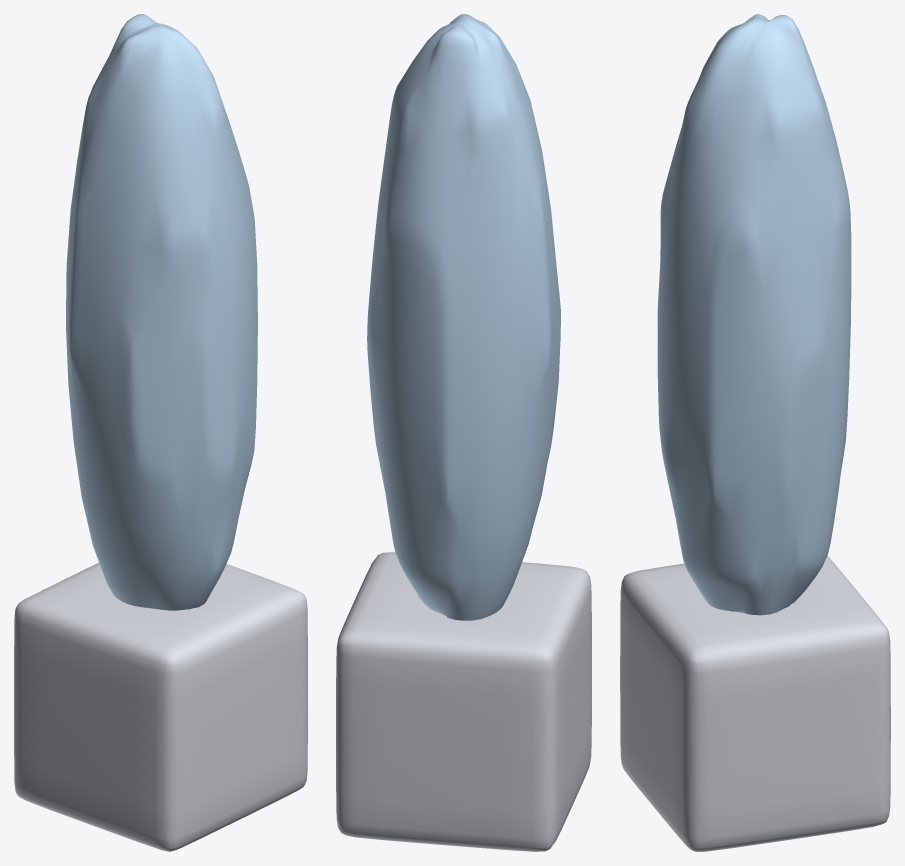
Rendered from PROP_Fountain_v1.glb.
The picture shows the model from 3 angles, left to right: view 1: azimuth 30°, elevation 25°; view 2: azimuth 150°, elevation 25°; view 3: azimuth 270°, elevation 25°; orthographic projection. The views are drawn at different scales.
Parts seen in each view (by area): view 1: PROP_Fountain_v1; view 2: PROP_Fountain_v1; view 3: PROP_Fountain_v1.
Boxes of the visible parts, x1,y1,x2,y2 form: PROP_Fountain_v1: [14, 14, 307, 851]; PROP_Fountain_v1: [336, 14, 591, 851]; PROP_Fountain_v1: [620, 14, 890, 851].
Size of the model in its own units: 1.27 by 4.01 by 1.26.
